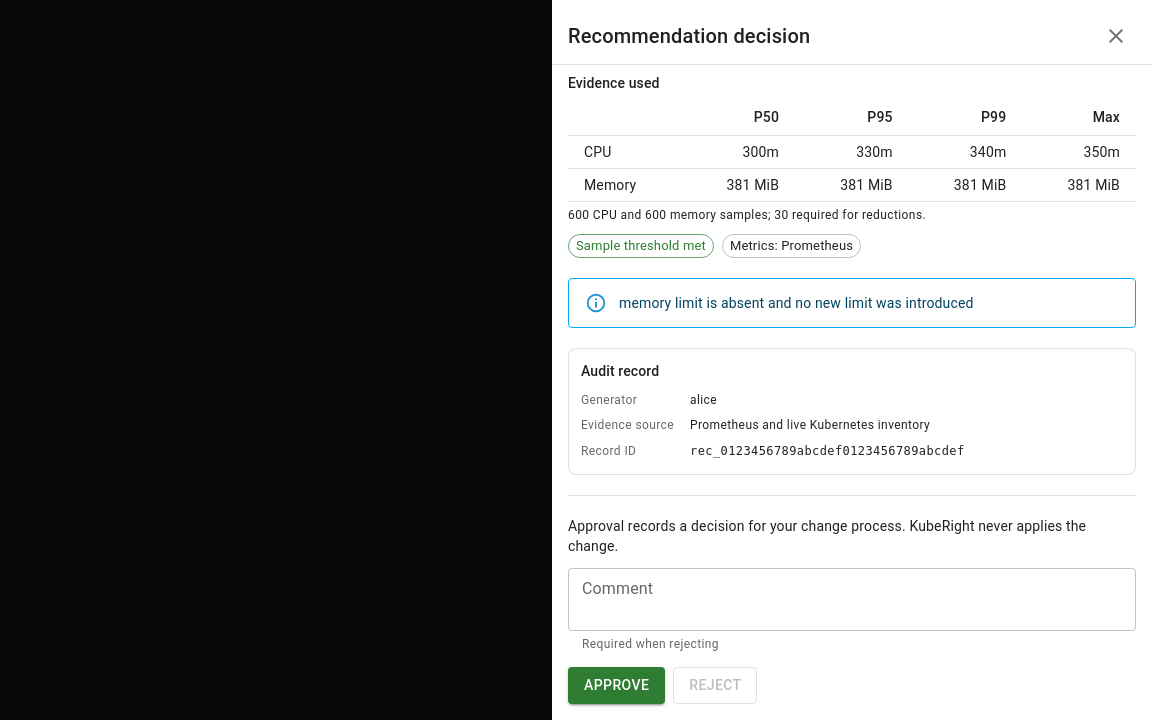
Test: RecommendationDrawer › explains the recommendation and submits an approval
The width and height of the screenshot is (1152, 720).
(page scrolled)
Expected: the text "memory limit is absent and no new limit was introduced" is shown, top-left (619, 294), bottom-right (974, 310)
Expected: the button "Reject" is disabled, top-left (673, 667), bottom-right (758, 704)
Click the button "Approve". click: {"x": 617, "y": 685}
box: top-left (568, 667), bottom-right (665, 704)
(page scrolled)
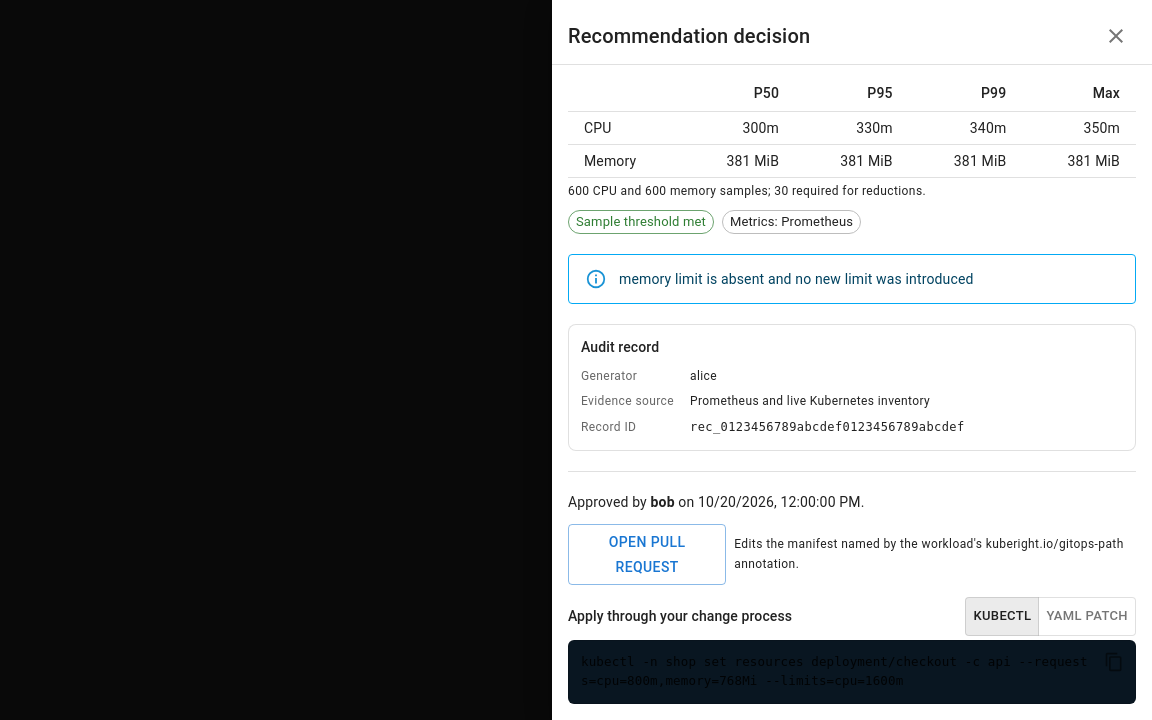
Expected: the text "Approved by bob on 10/20/2026, 12:00:00 PM." is shown, top-left (568, 494), bottom-right (864, 510)
Expected: the text "kubectl -n shop set resources deployment/checkout -c api --requests=cpu=800m,memory=768Mi --limits=cpu=1600m" is shown, top-left (581, 654), bottom-right (1088, 688)
